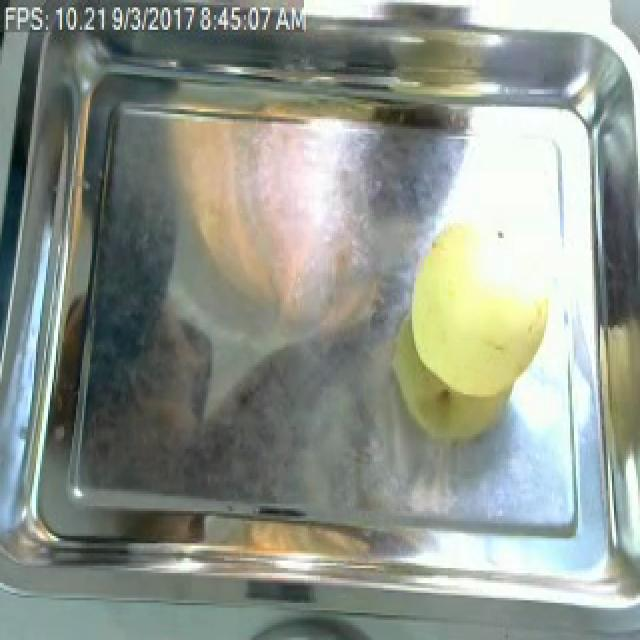Fruit: (396, 206, 572, 409)
